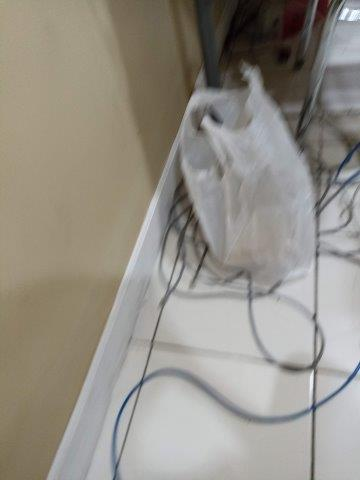plastik: (180, 67, 313, 274)
